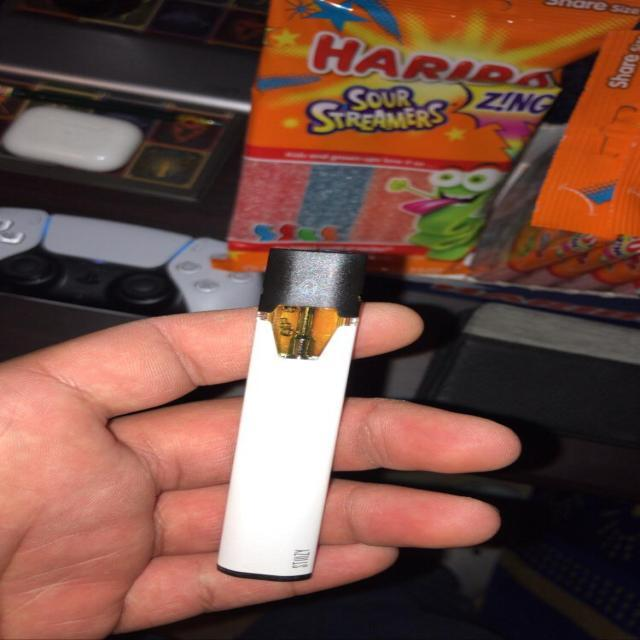Hazard: (213, 246, 370, 584)
